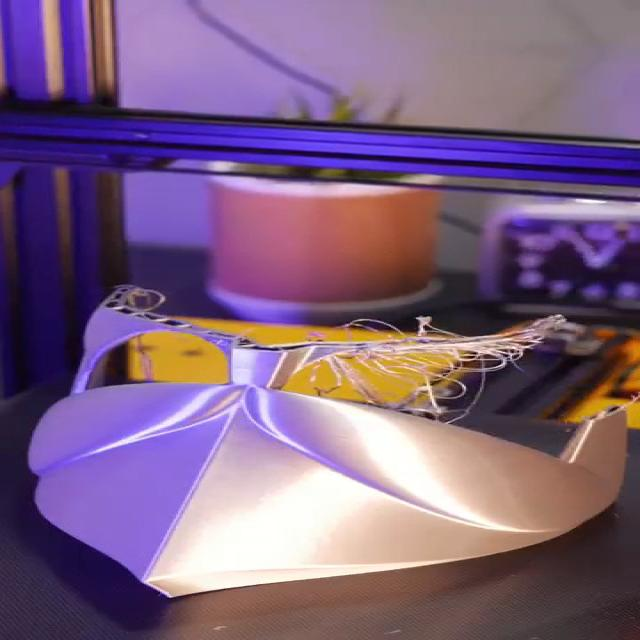spaghetti: (292, 304, 579, 433), (122, 284, 193, 314)
